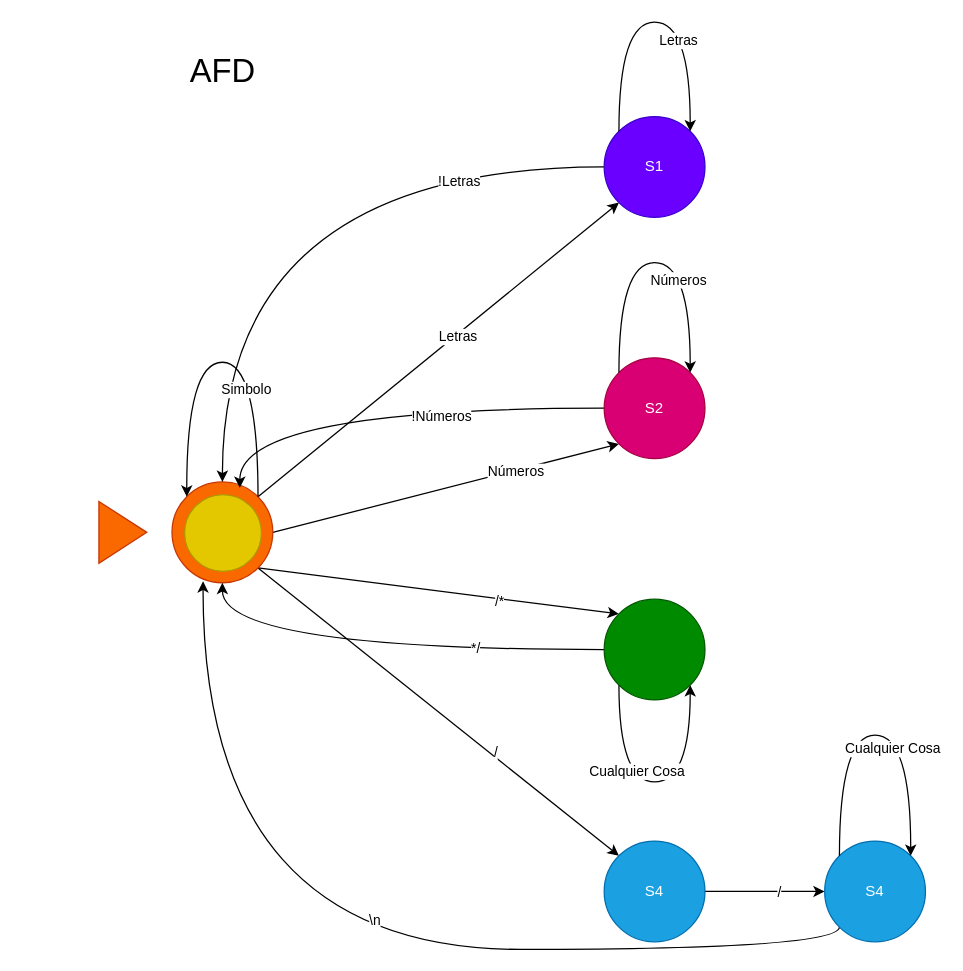
This 963x971 diagram has some shape labels left out. Here are the shapes that lost their labels. From the top down, the centre of each, then its label:
At point (222, 532): "S0".
At point (654, 649): "S3".
